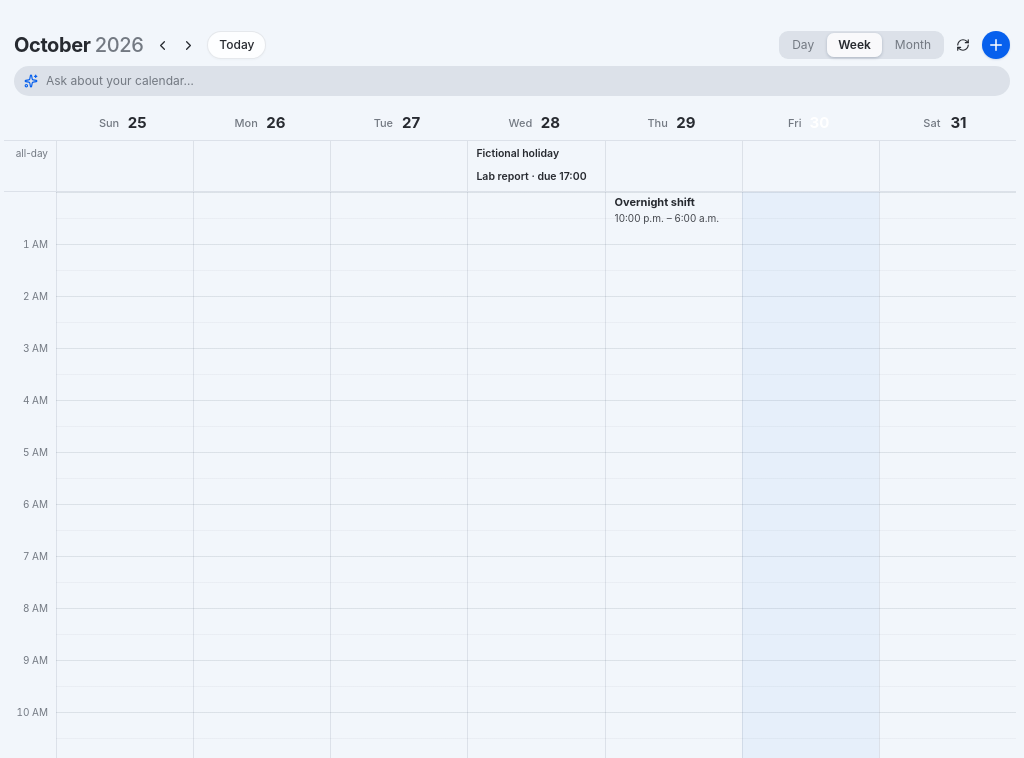
Test: puts all-day and linked deadlines in the all-day row and keeps the timetable for timed events
Expected: the button with aria-label "Fictional holiday, All day" is shown, [471,144,602,164]
Click the button "Lab report · due 17:00". click: x=536, y=177
box: [471,167,602,187]
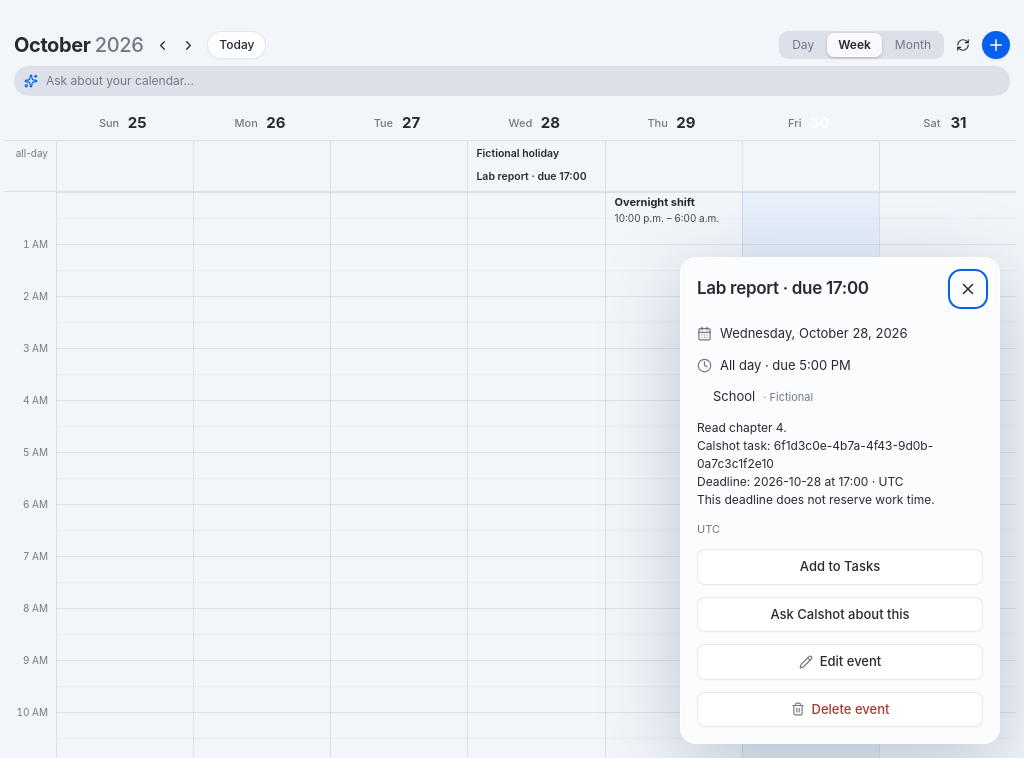
Expected: the text "All day · due 5:00 PM" is shown, [697,356,851,373]
